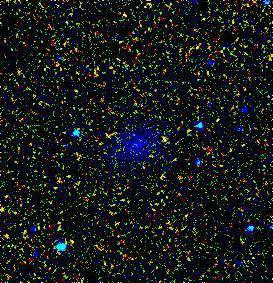star: (150, 124, 180, 154)
